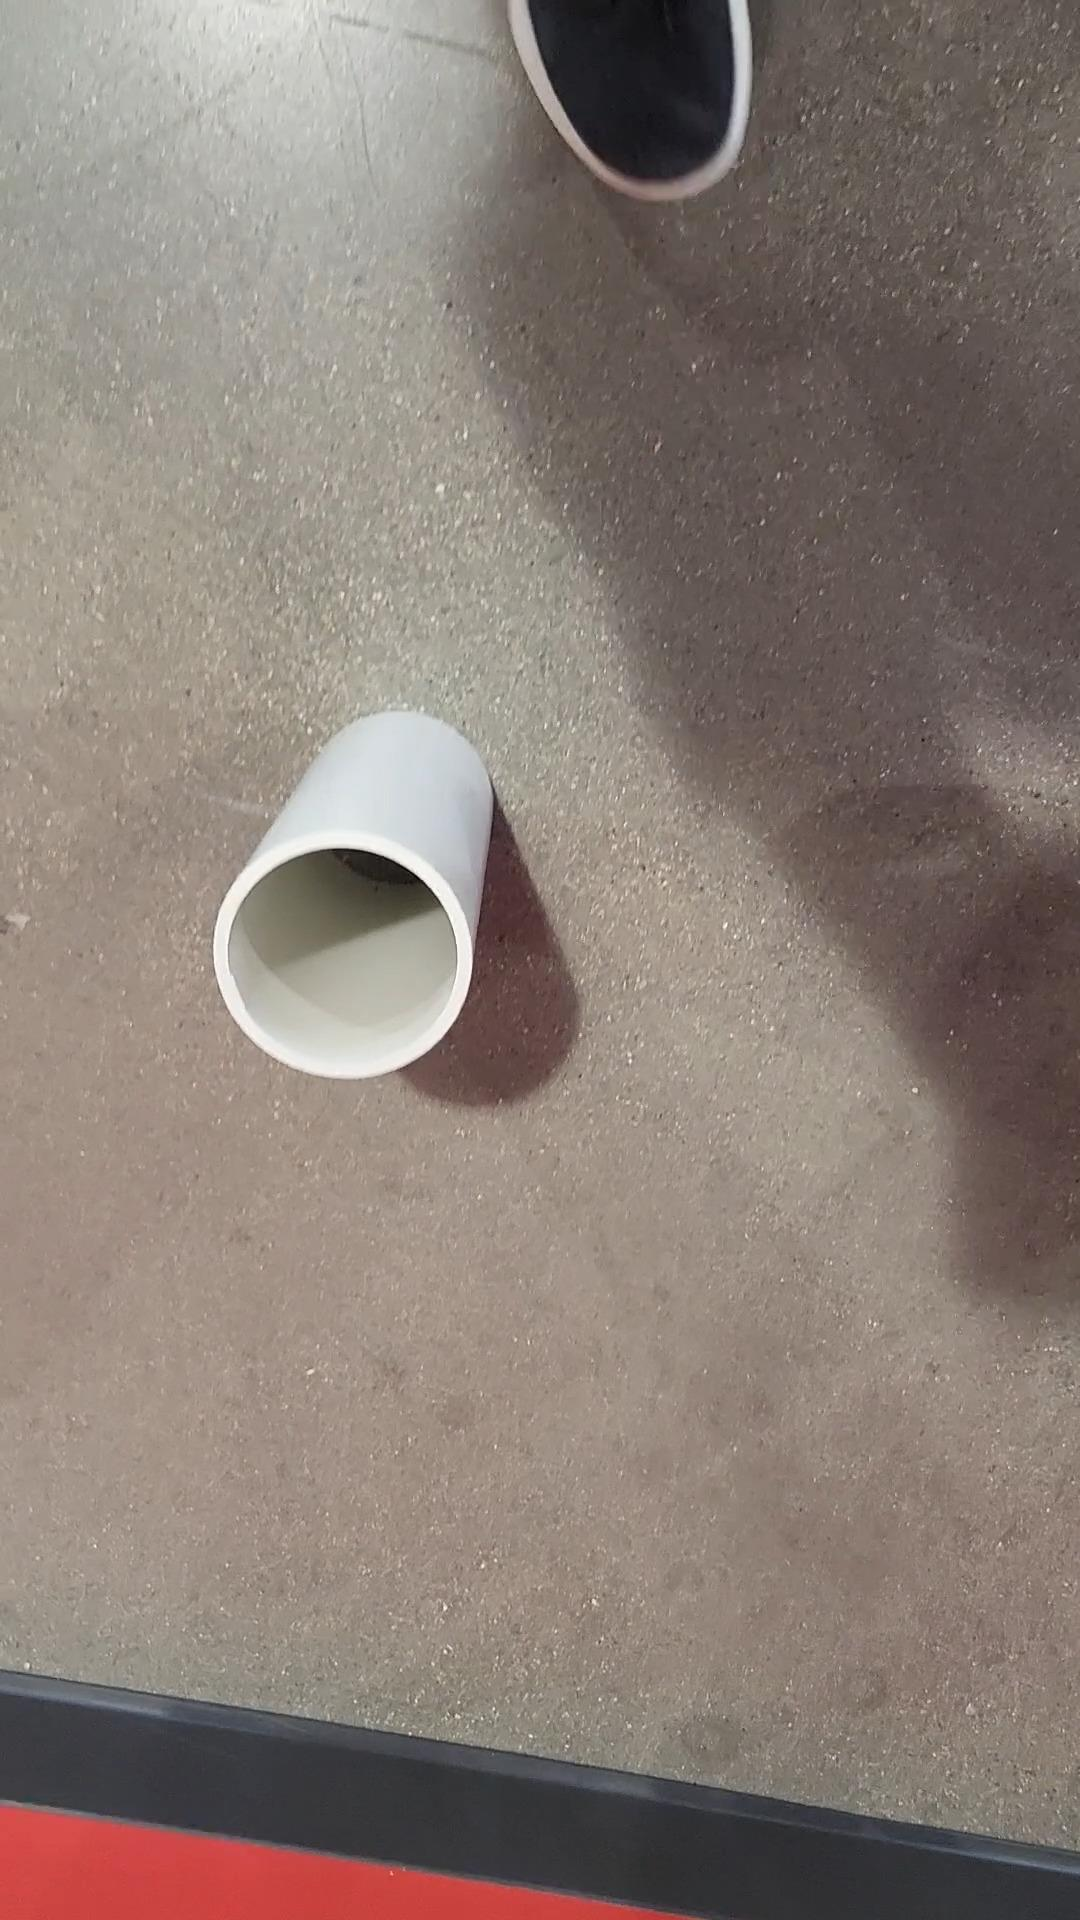coral: (220, 715, 482, 1080)
